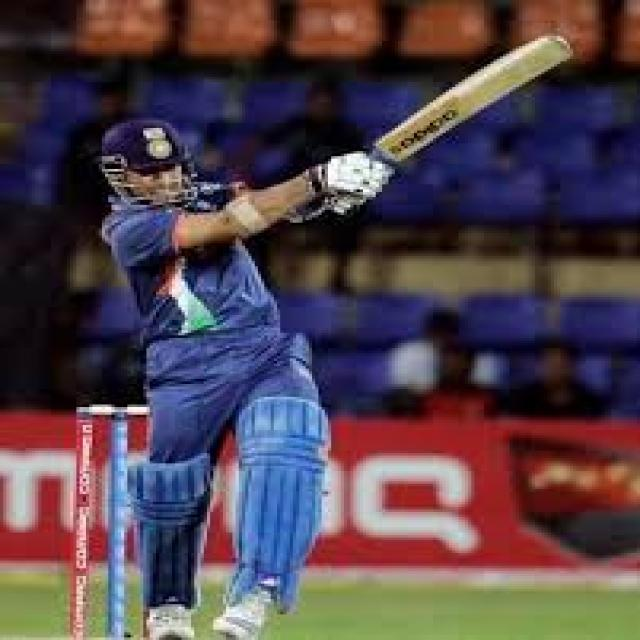toe: (530, 32, 574, 77)
